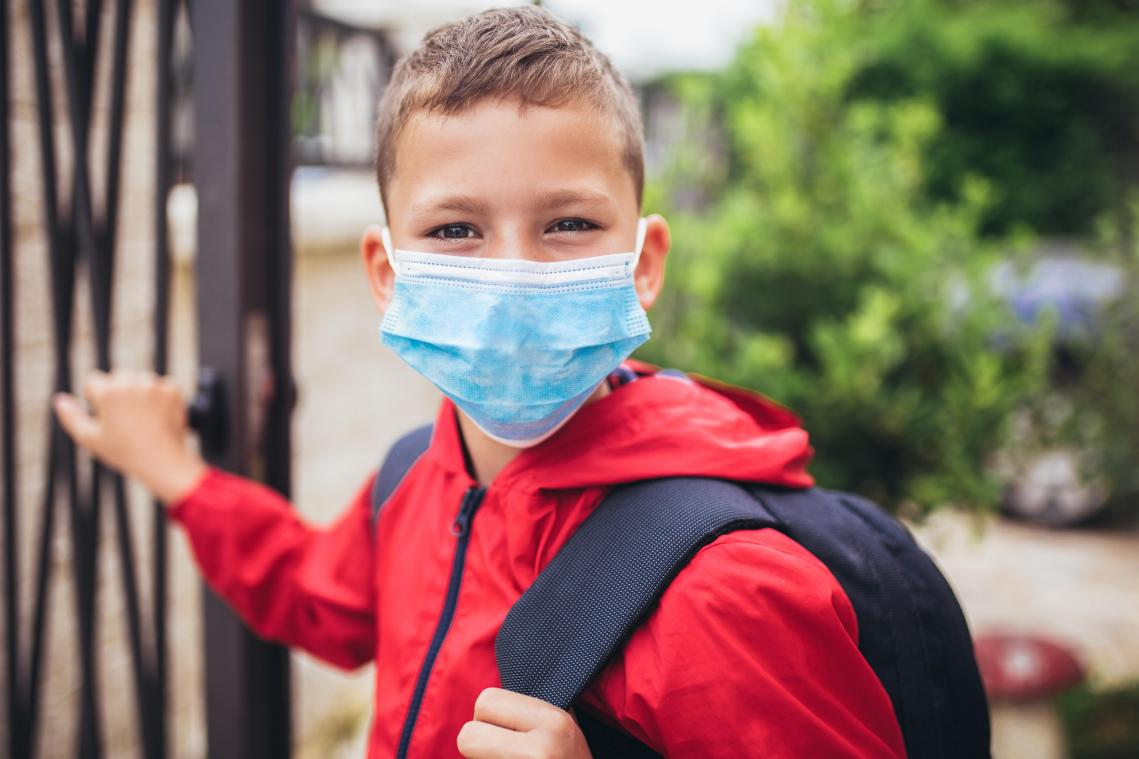with_mask: (388, 91, 642, 416)
